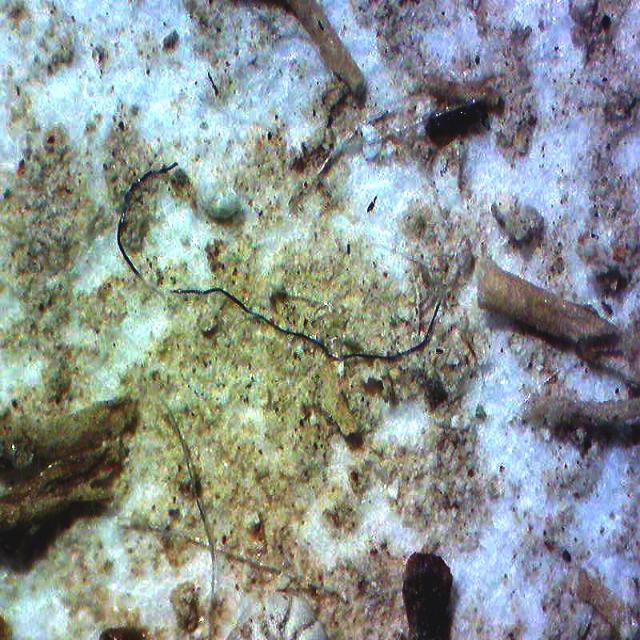microplastic: (117, 162, 441, 361)
